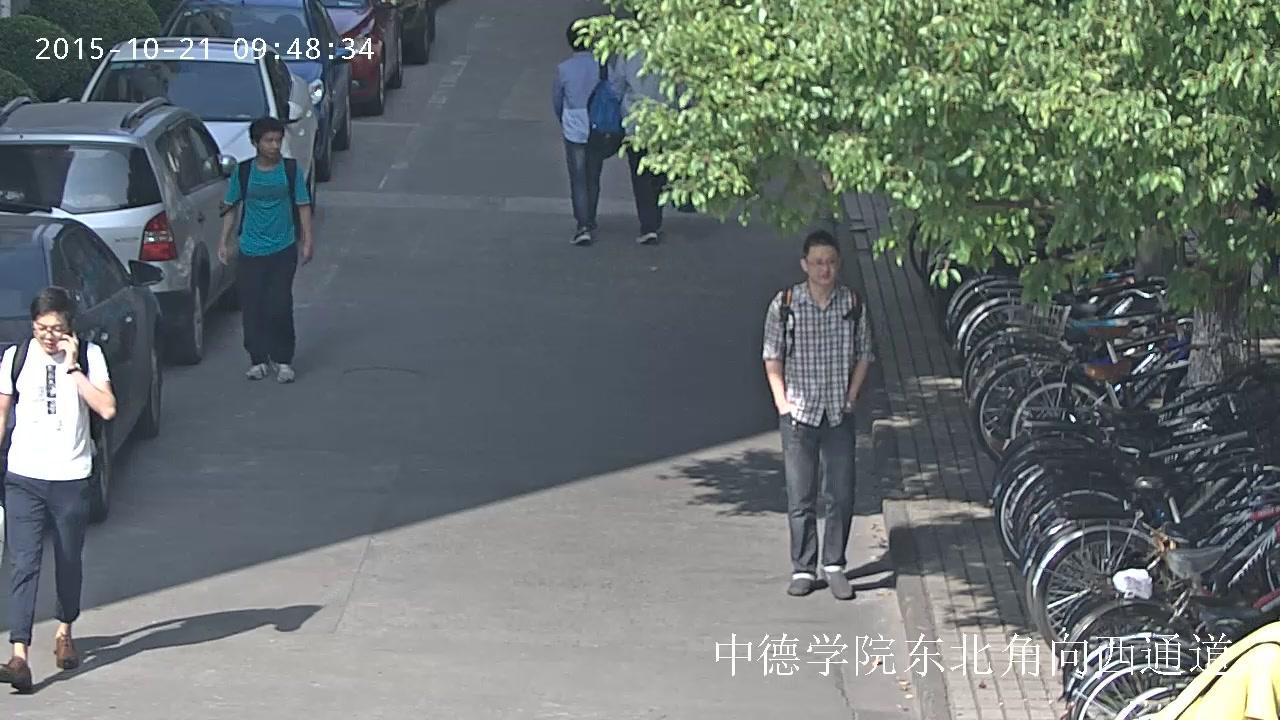face: (33, 310, 68, 353), (809, 246, 839, 283), (259, 130, 281, 157)
